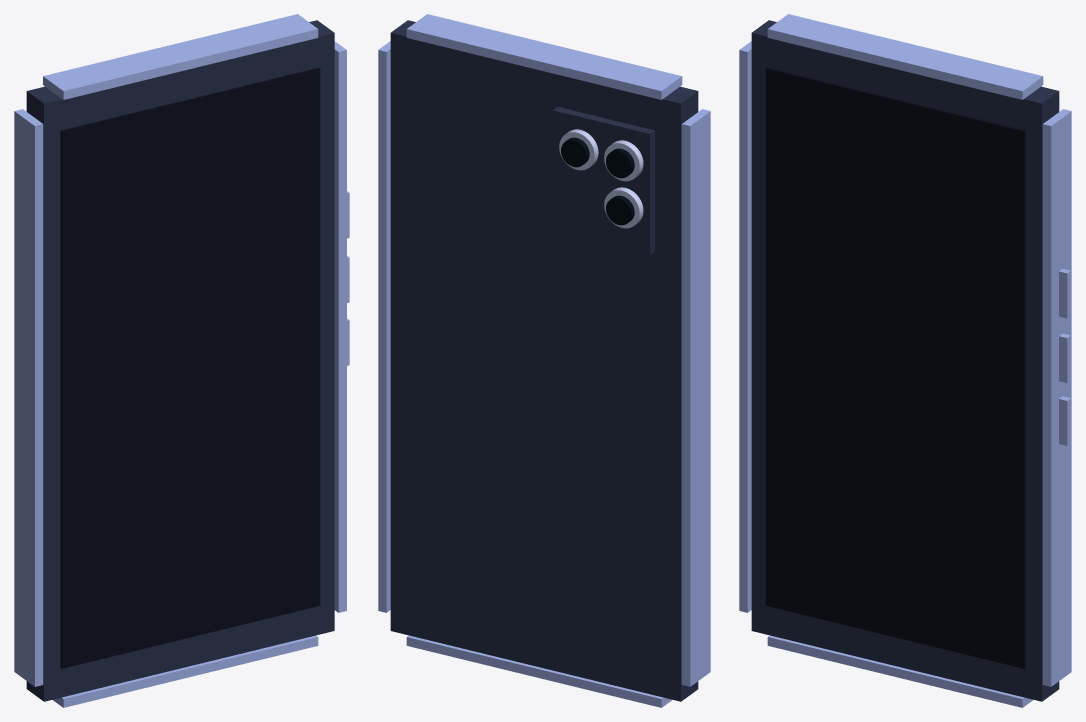
Rendered from portfolio-phone.glb.
3 renders of one model, left to right at view 1: azimuth 30°, elevation 25°; view 2: azimuth 150°, elevation 25°; view 3: azimuth 330°, elevation 25°, orthographic.
Visible parts, largest first — view 1: front_screen_placeholder, phone_body, left_rail, top_rail, right_rail, bottom_rail; view 2: phone_body, left_rail, camera_island, top_rail, right_rail, bottom_rail, lens_glass_1, lens_glass_2, lens_glass_0, lens_ring_0, lens_ring_1, lens_ring_2; view 3: front_screen_placeholder, phone_body, right_rail, top_rail, left_rail, bottom_rail, side_button_2, side_button_1, side_button_0.
Part boxes in pixels (x1=…): front_screen_placeholder: x1=60, y1=67, x2=320, y2=668; phone_body: x1=26, y1=20, x2=334, y2=701; left_rail: x1=14, y1=109, x2=43, y2=686; top_rail: x1=43, y1=14, x2=318, y2=99; right_rail: x1=334, y1=41, x2=346, y2=612; bottom_rail: x1=52, y1=635, x2=318, y2=707; phone_body: x1=390, y1=20, x2=698, y2=701; left_rail: x1=681, y1=109, x2=710, y2=686; camera_island: x1=552, y1=106, x2=654, y2=255; top_rail: x1=406, y1=14, x2=682, y2=99; right_rail: x1=378, y1=41, x2=390, y2=612; bottom_rail: x1=406, y1=635, x2=672, y2=707; lens_glass_1: x1=561, y1=137, x2=589, y2=167; lens_glass_2: x1=606, y1=195, x2=634, y2=225; lens_glass_0: x1=606, y1=148, x2=634, y2=178; lens_ring_0: x1=604, y1=140, x2=643, y2=181; lens_ring_1: x1=559, y1=129, x2=598, y2=170; lens_ring_2: x1=604, y1=187, x2=643, y2=228; front_screen_placeholder: x1=765, y1=67, x2=1025, y2=668; phone_body: x1=751, y1=20, x2=1059, y2=701; right_rail: x1=1042, y1=109, x2=1071, y2=686; top_rail: x1=767, y1=14, x2=1043, y2=99; left_rail: x1=739, y1=41, x2=751, y2=612; bottom_rail: x1=767, y1=635, x2=1033, y2=707; side_button_2: x1=1059, y1=396, x2=1070, y2=445; side_button_1: x1=1059, y1=333, x2=1070, y2=383; side_button_0: x1=1059, y1=269, x2=1070, y2=318.
Bounding box in the file's own units: 1.72 × 3.15 × 0.295.
